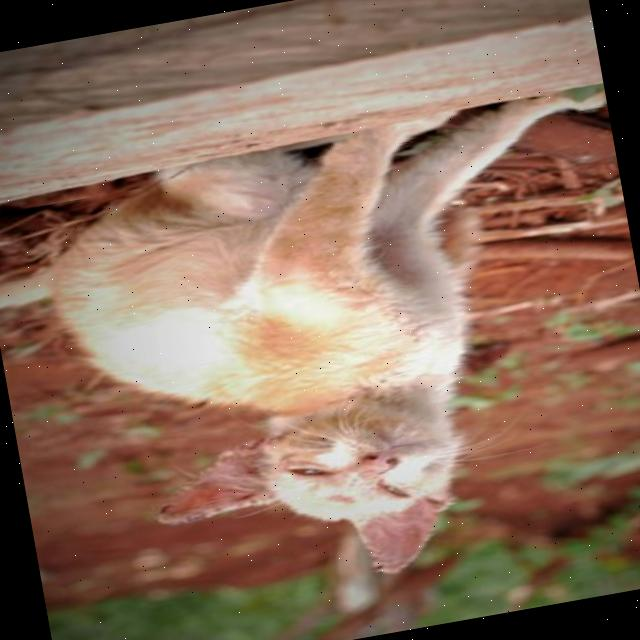cat-scabies: (138, 429, 278, 538), (342, 504, 429, 582)
